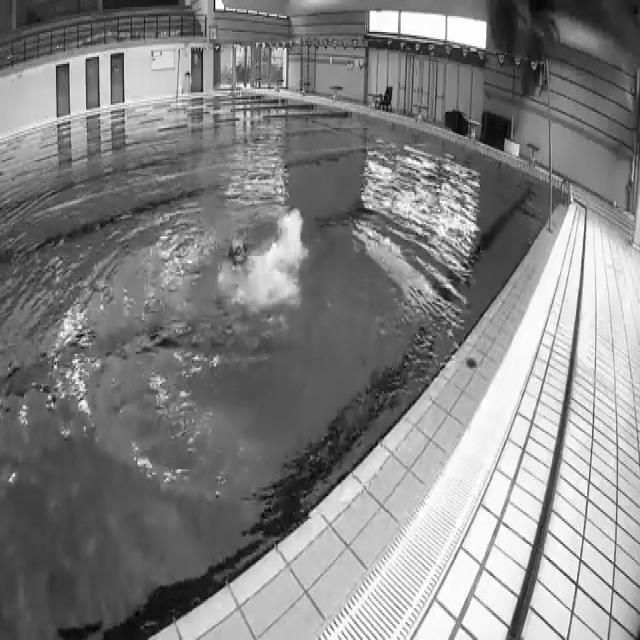Drowning: (213, 205, 312, 314)
